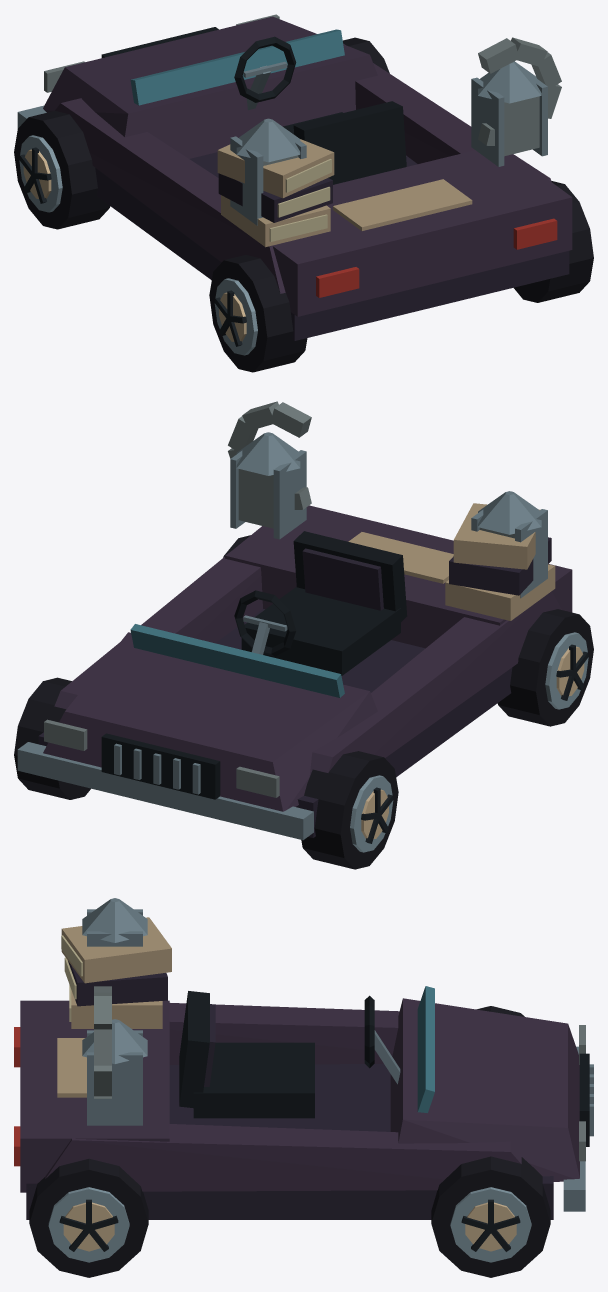
The model's file is kart.glb.
3 renders of one model, top to bottom at view 1: azimuth 30°, elevation 25°; view 2: azimuth 150°, elevation 25°; view 3: azimuth 270°, elevation 25°, orthographic. The views are drawn at different scales.
Visible parts, largest first — view 1: identity-sedan-sedan-road-car-body, identity-sedan-motif-lanterns, identity-sedan-driver-cockpit, identity-sedan-motif-books, wheel-front-left, wheel-rear-left, wheel-rear-right, identity-sedan-motif-moon, wheel-front-right; view 2: identity-sedan-sedan-road-car-body, identity-sedan-driver-cockpit, identity-sedan-motif-lanterns, wheel-front-left, wheel-rear-left, identity-sedan-motif-books, wheel-front-right, identity-sedan-motif-moon; view 3: identity-sedan-sedan-road-car-body, identity-sedan-driver-cockpit, wheel-front-right, wheel-rear-right, identity-sedan-motif-books, identity-sedan-motif-lanterns, identity-sedan-motif-moon.
Boxes of the visible parts, box(x1,y1,x2,y2) form: identity-sedan-sedan-road-car-body: box(17, 14, 572, 340); identity-sedan-motif-lanterns: box(230, 61, 547, 225); identity-sedan-driver-cockpit: box(234, 36, 406, 184); identity-sedan-motif-books: box(217, 139, 334, 247); wheel-front-left: box(14, 111, 110, 229); wheel-rear-left: box(209, 255, 307, 372); wheel-rear-right: box(514, 181, 593, 302); identity-sedan-motif-moon: box(478, 37, 561, 145); wheel-front-right: box(343, 37, 389, 73); identity-sedan-sedan-road-car-body: box(17, 505, 572, 840); identity-sedan-driver-cockpit: box(234, 531, 407, 675); identity-sedan-motif-lanterns: box(230, 432, 547, 598); wheel-front-left: box(301, 751, 398, 869); wheel-rear-left: box(497, 609, 593, 726); identity-sedan-motif-books: box(445, 503, 555, 620); wheel-front-right: box(14, 677, 90, 799); identity-sedan-motif-moon: box(228, 401, 311, 509); identity-sedan-sedan-road-car-body: box(14, 986, 593, 1219); identity-sedan-driver-cockpit: box(179, 991, 400, 1118); wheel-front-right: box(431, 1156, 550, 1277); wheel-rear-right: box(29, 1158, 148, 1277); identity-sedan-motif-books: box(61, 917, 171, 1028); identity-sedan-motif-lanterns: box(82, 898, 147, 1125); identity-sedan-motif-moon: box(94, 986, 111, 1098).
Bounding box in the file's own units: 2.07 × 1.45 × 2.92.
